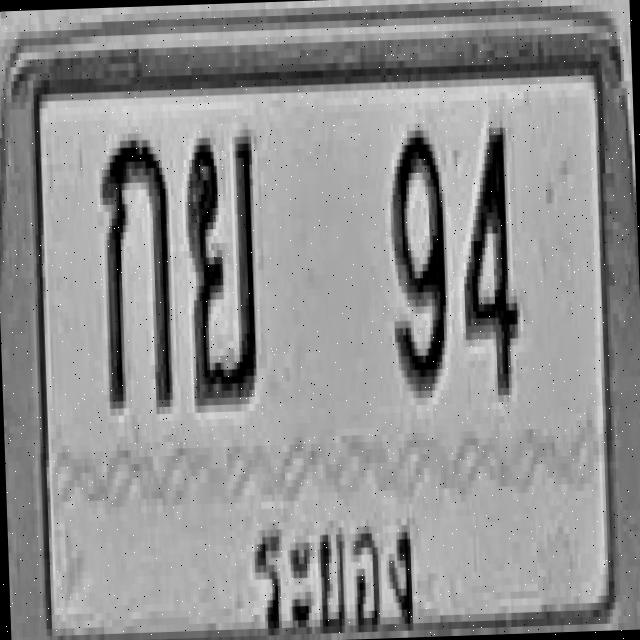10GorGai: (97, 132, 175, 408)
4: (457, 120, 521, 396)
43YorYak: (184, 128, 262, 406)
9: (388, 122, 448, 391)
Rayong: (244, 486, 423, 640)
